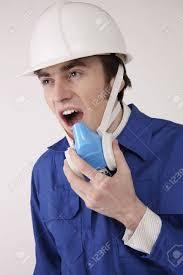Wore Mask Incorrectly: (17, 33, 151, 179)
